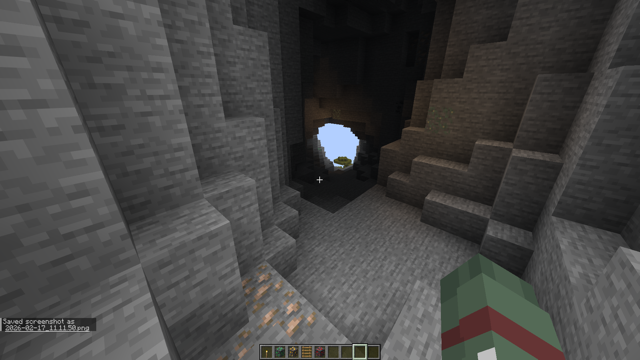iron: (213, 263, 316, 360)
